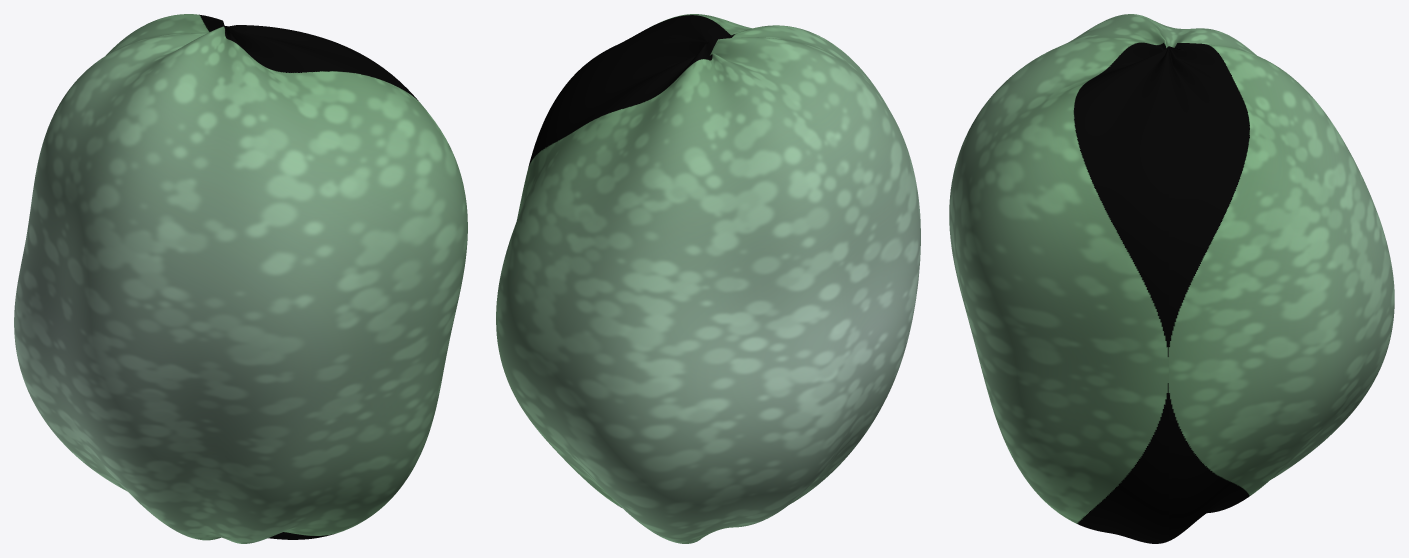
The model's file is amoeba.obj.
3 views of the same model, side by side, from view 1: azimuth 30°, elevation 25°; view 2: azimuth 150°, elevation 25°; view 3: azimuth 270°, elevation 25° (orthographic). The views are drawn at different scales.
Size of the model in its own units: 0.8921 by 1.2 by 1.02.
Materials: 1 (1 with a texture image).
